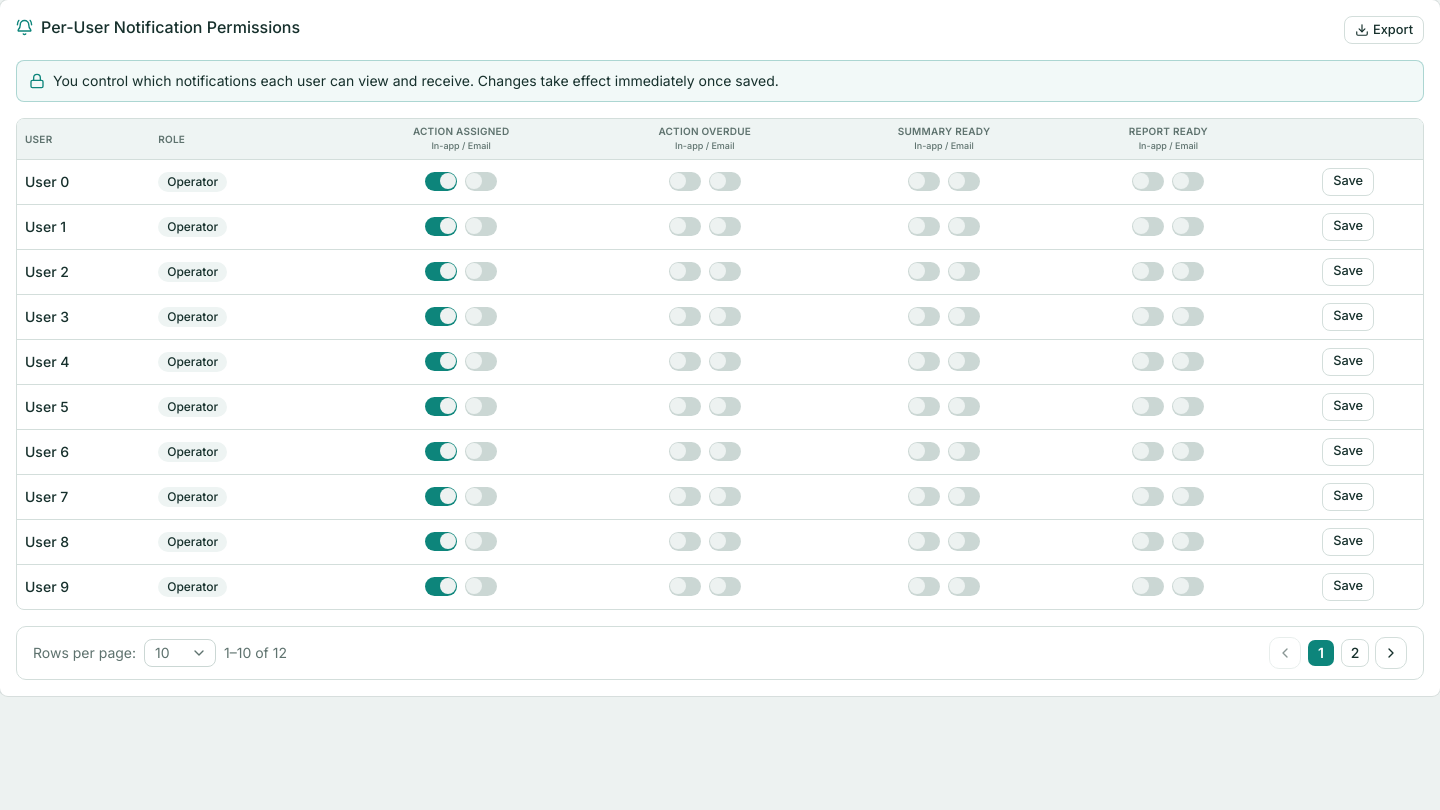
Scenario: NotificationPermissionsTable › paginates client-side once the fetched list exceeds one page
Expected: the text "User 0" is shown, [17,160,150,204]
Expected: the text "User 11" is not shown
Step 1. Click the button named "Page 2" → (1355, 652), box [1341,638,1369,666]
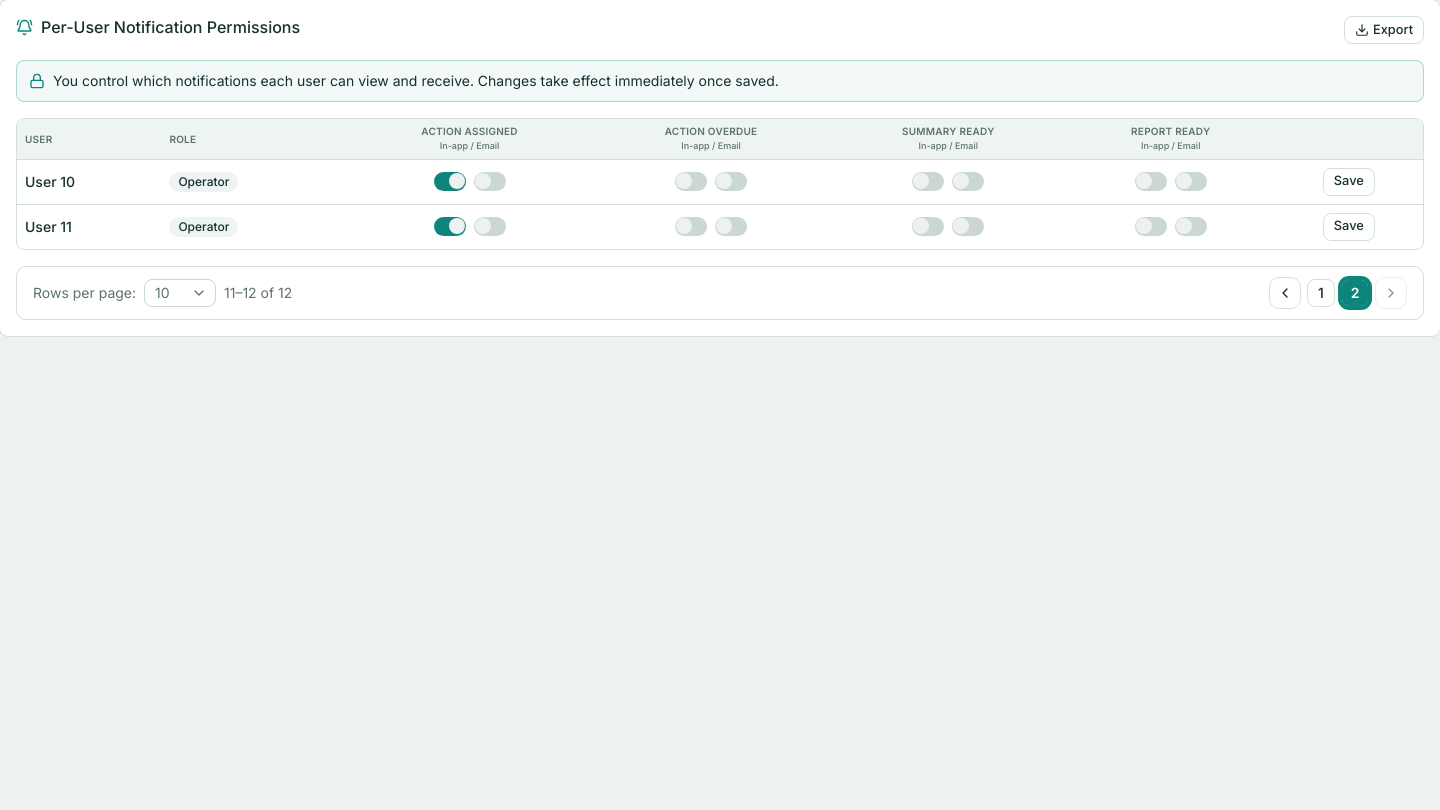
Expected: the text "User 11" is shown, [17,204,161,248]
Expected: the text "User 0" is gone
